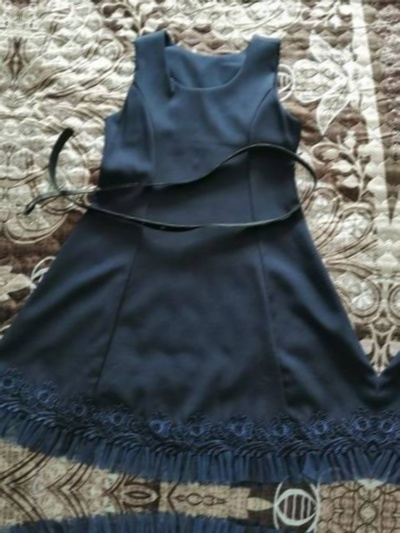Dress: (3, 9, 396, 500), (0, 497, 358, 533), (379, 38, 400, 529), (341, 527, 400, 533), (0, 0, 0, 469)
